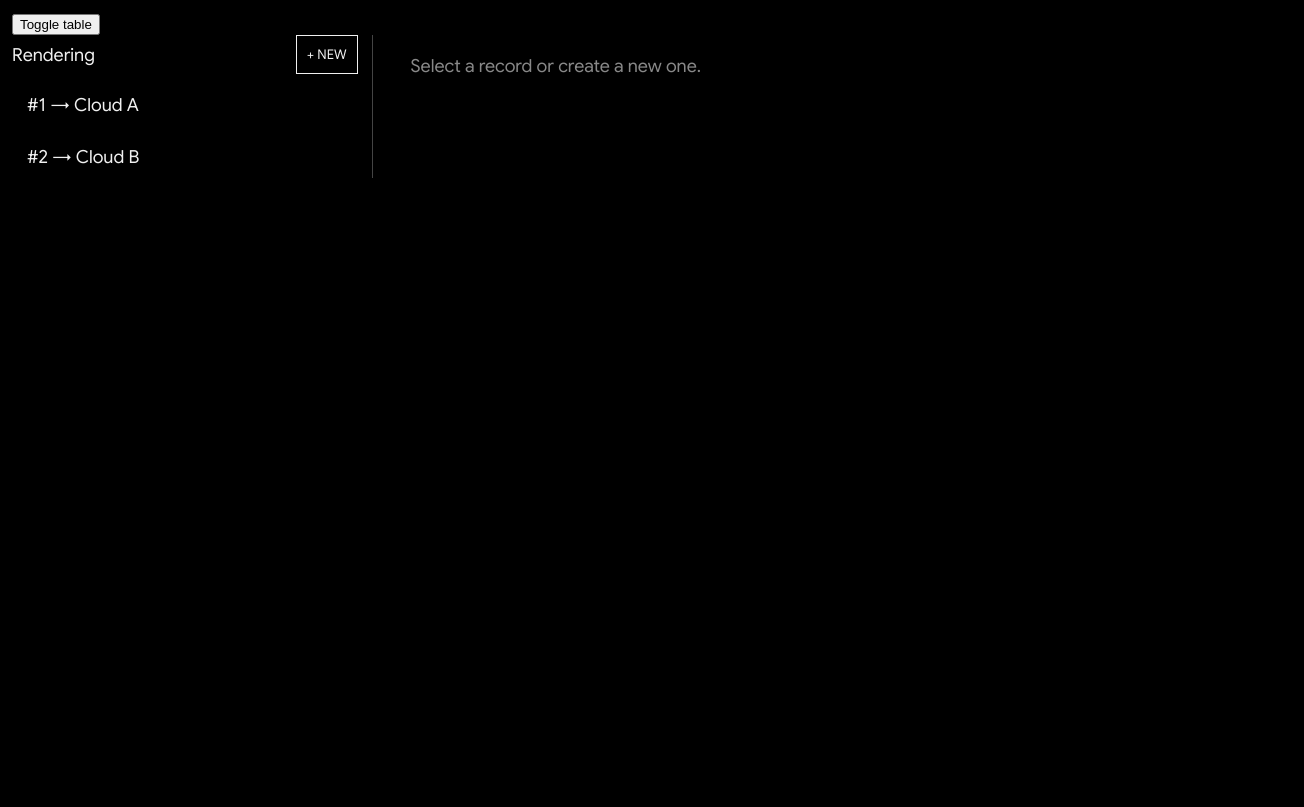
Test: uses the actor category and displays inherited preset values without writing them
This screenshot has width=1304, height=807.
Click the button with class "titan-editor-row" showing "#1 → Cloud A". click: (83, 105)
box: left=12, top=84, right=352, bottom=126
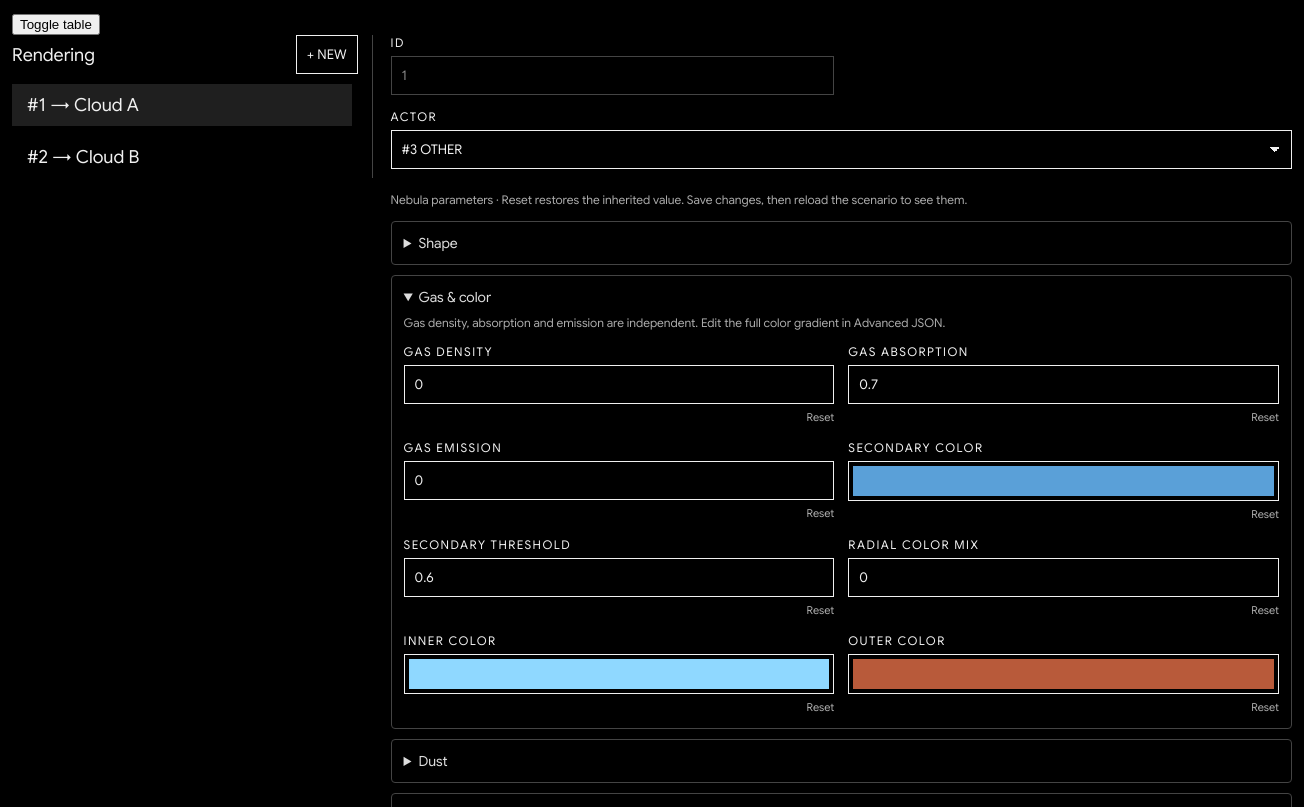
Now the number field labelled "Gas density" holds "0", box left=404, top=365, right=834, bottom=404
Now the dropdown labelled "Actor" is shown
Select "#3 Other" in the dropdown labelled "Actor". click: (841, 150)
box: left=391, top=130, right=1292, bottom=169
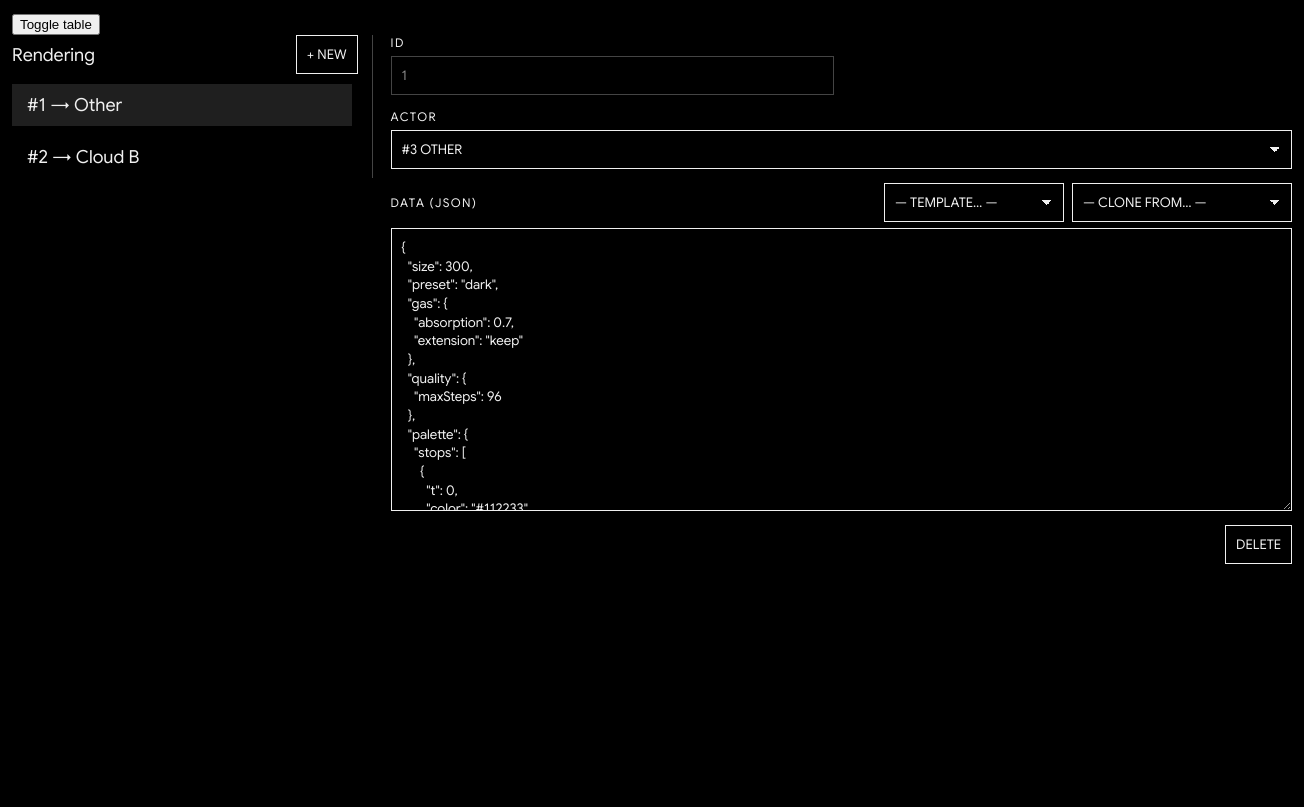
Now the text "Gas density" is gone
